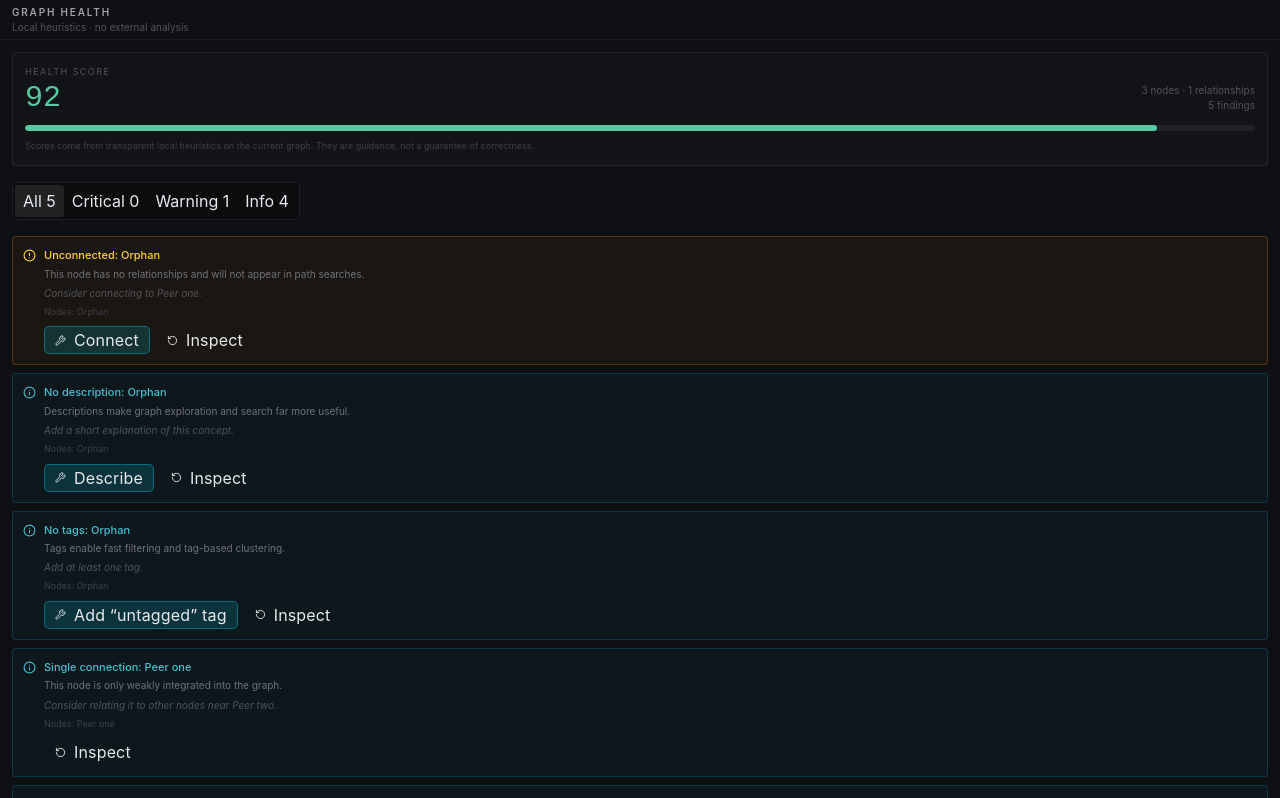
Test case: HealthPanel › applies the add-tag fix and removes the resolved finding
Click the button "Add “untagged” tag". click: click(141, 615)
box: [44,601,238,629]
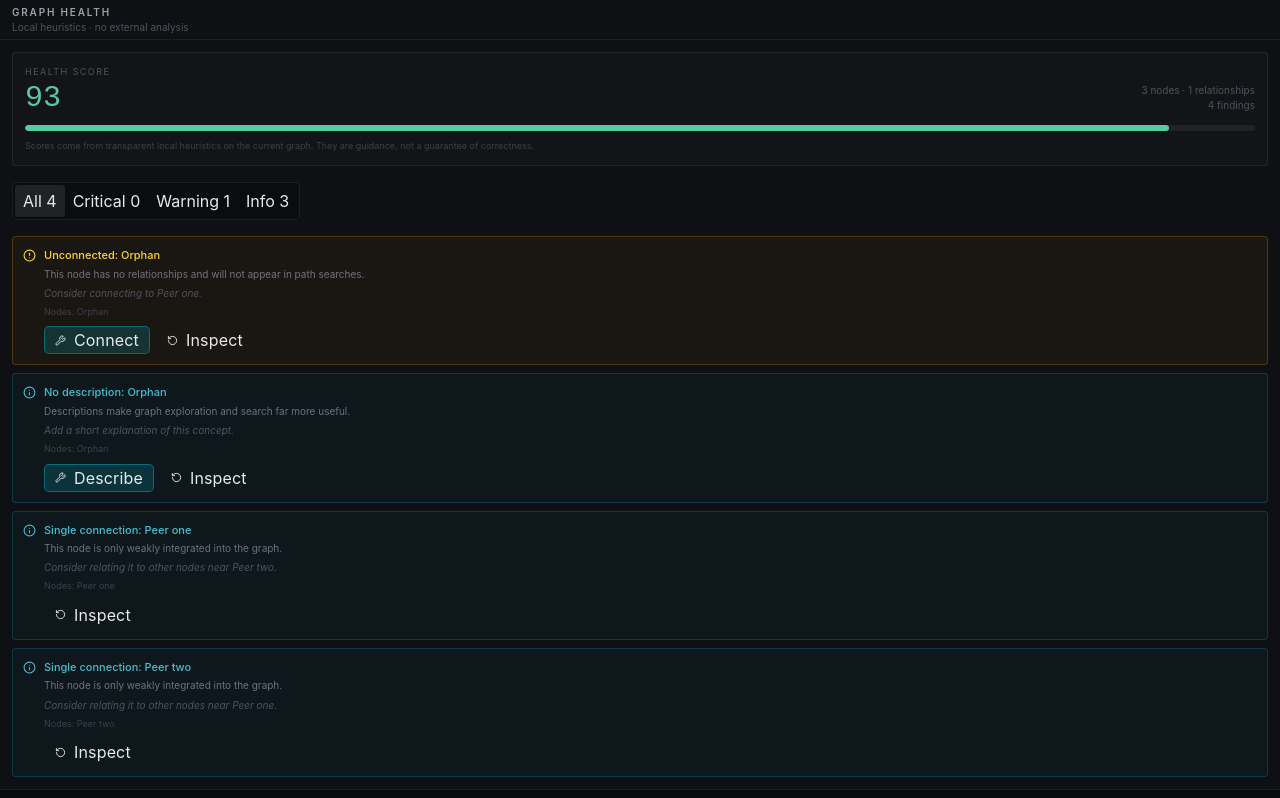
Check: the text "No tags: Orphan" is gone
